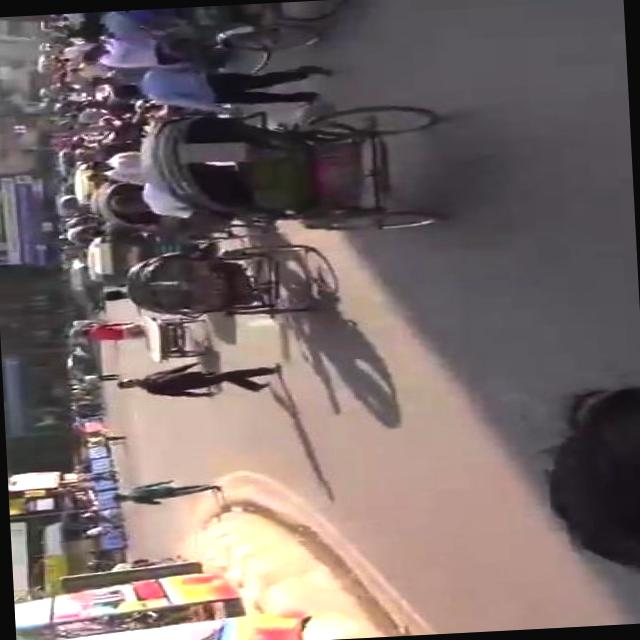motorcycle: (131, 94, 449, 244), (105, 0, 328, 82), (122, 241, 316, 325), (72, 309, 210, 365), (80, 226, 194, 288), (85, 177, 149, 227), (62, 222, 99, 246)
